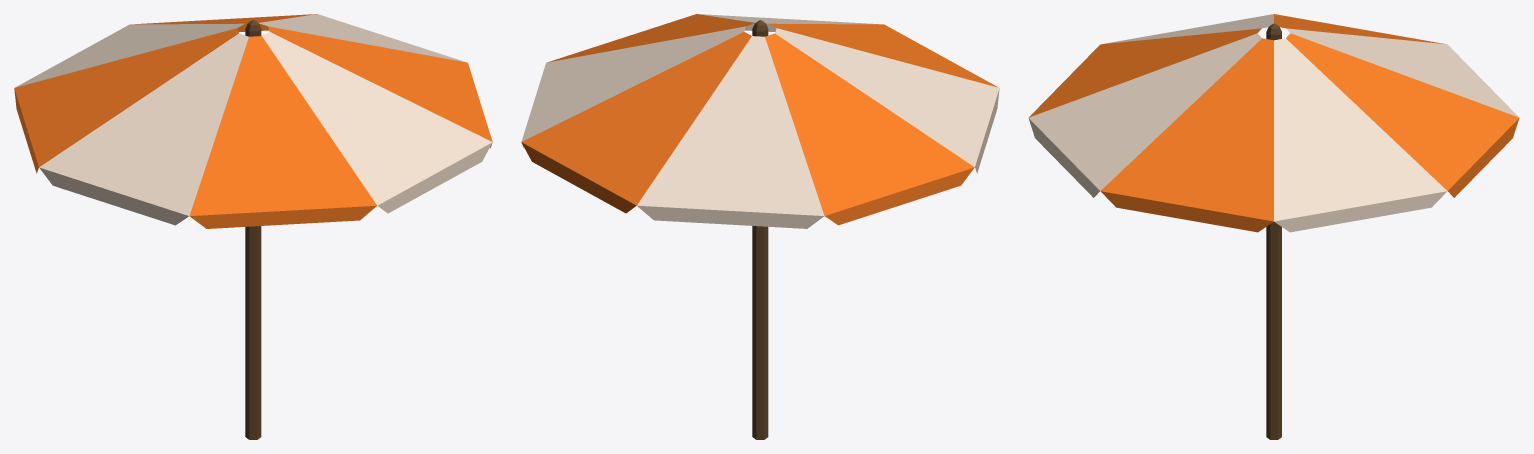
File: beach_sunscreen.fbx
The picture shows the model from 3 angles, left to right: view 1: azimuth 30°, elevation 25°; view 2: azimuth 150°, elevation 25°; view 3: azimuth 270°, elevation 25°; orthographic projection.
Parts seen in each view (by area): view 1: beach_sunscreen; view 2: beach_sunscreen; view 3: beach_sunscreen.
Boxes of the visible parts, <box> form: beach_sunscreen: <box>14,14,492,439</box>; beach_sunscreen: <box>521,14,999,439</box>; beach_sunscreen: <box>1028,14,1519,439</box>.
Size of the model in its own units: 200 by 186 by 200.
